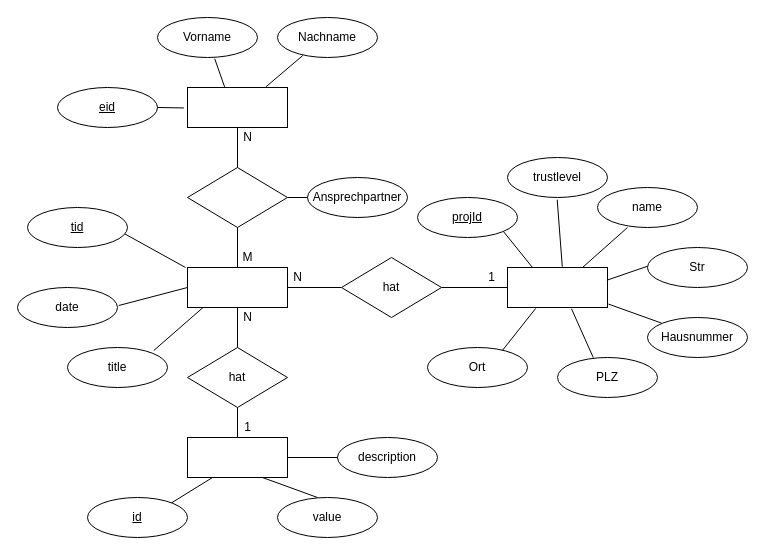
This 765x555 diagram has some shape labels left out. The centre of each missing label's shape, as x and y in pixels:
bearbeitet: the point at 237,197
customer: the point at 557,287
emplyee: the point at 237,107
priority: the point at 237,457
task: the point at 237,287
